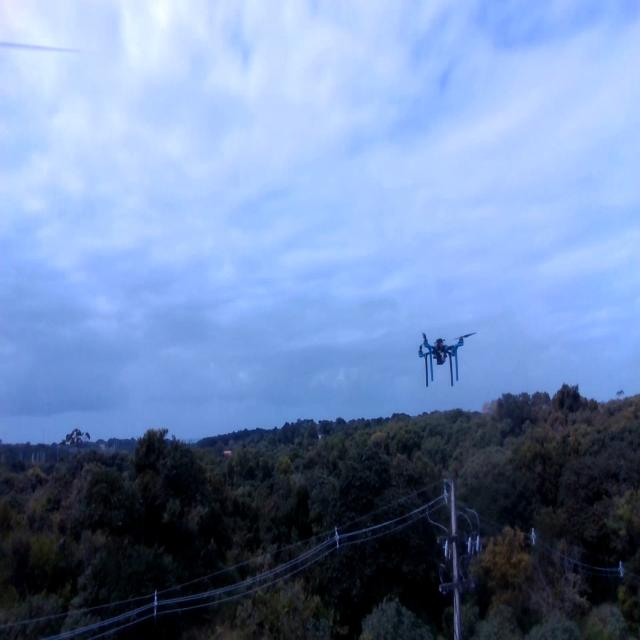-uav-: (403, 320, 490, 418)
